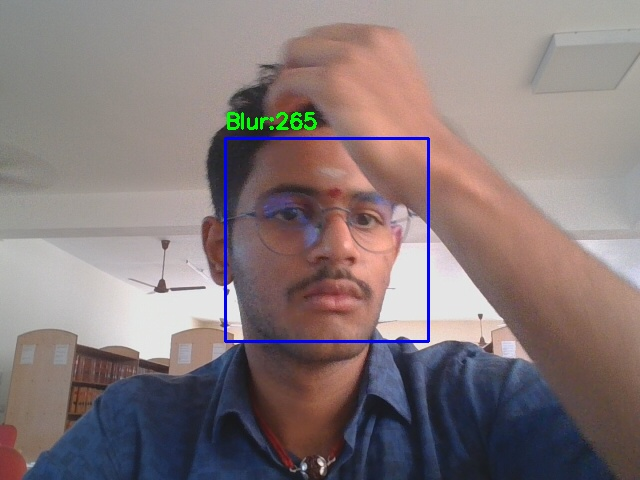real: (225, 138, 428, 341)
